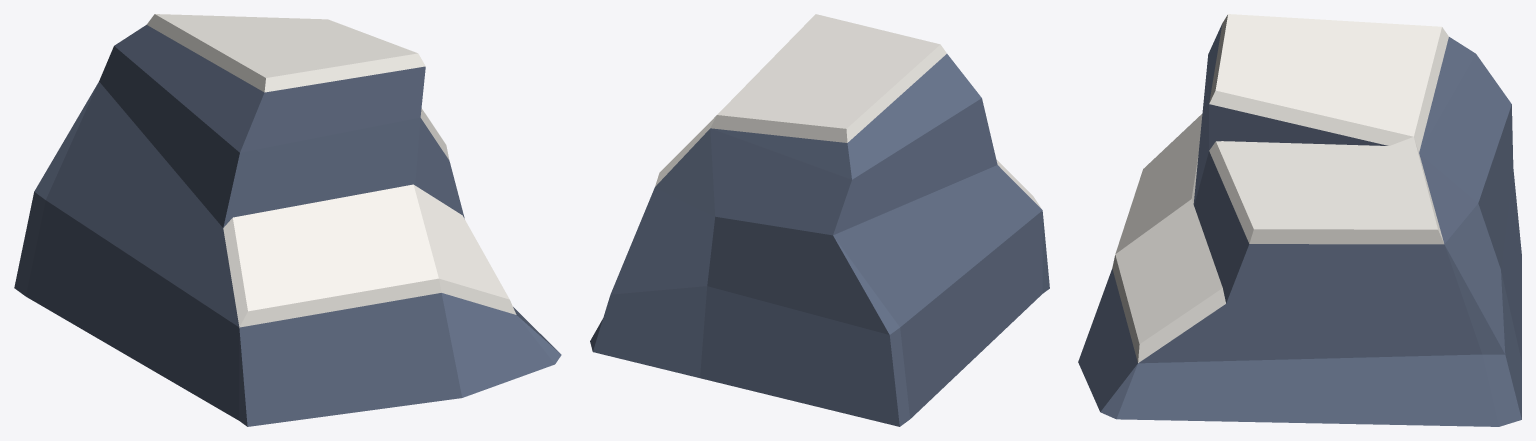
File: Rock_Snow_3.glb
3 views of the same model, side by side, from view 1: azimuth 30°, elevation 25°; view 2: azimuth 150°, elevation 25°; view 3: azimuth 270°, elevation 25° (orthographic). The views are drawn at different scales.
Visible parts, largest first — view 1: Rock_Snow_3; view 2: Rock_Snow_3; view 3: Rock_Snow_3.
Part boxes in pixels (x1,y1,x2,y2): Rock_Snow_3: (14,14,561,426); Rock_Snow_3: (590,14,1049,426); Rock_Snow_3: (1078,14,1521,426).
Bounding box in the file's own units: 0.7384 × 0.579 × 0.8026.
